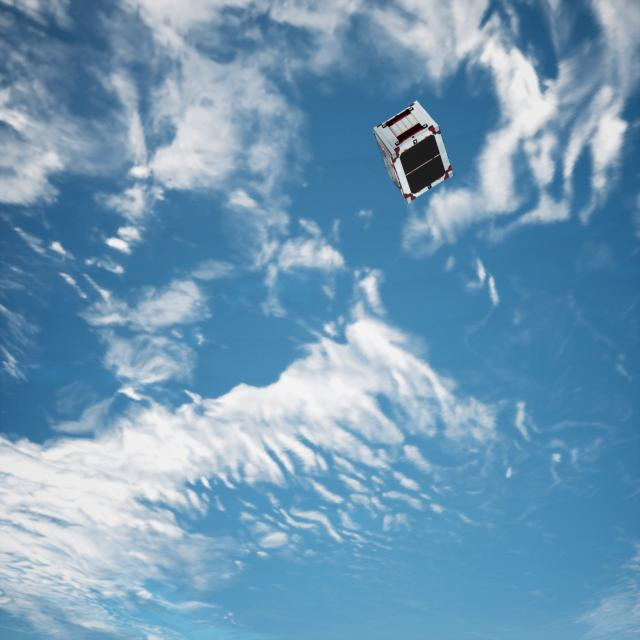satellite: (372, 100, 453, 200)
